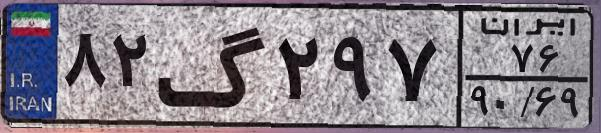0: (495, 70, 520, 125)
2: (270, 28, 330, 110), (110, 28, 156, 98)
6: (537, 27, 568, 80), (535, 70, 560, 125)
7: (385, 28, 445, 110), (508, 27, 537, 80)
8: (57, 26, 110, 100)
9: (330, 28, 385, 110), (560, 70, 590, 125), (470, 70, 495, 125)
گ: (156, 12, 270, 120)
